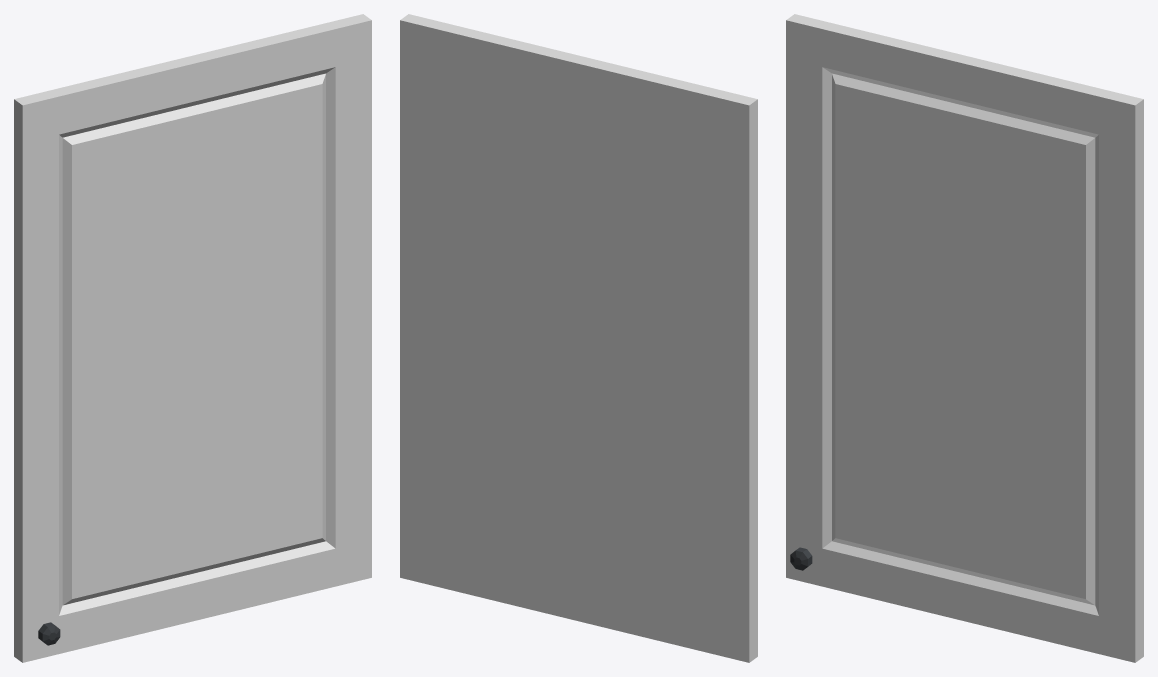
Rendered from Door3_C1_11.fbx.
The picture shows the model from 3 angles, left to right: view 1: azimuth 30°, elevation 25°; view 2: azimuth 150°, elevation 25°; view 3: azimuth 330°, elevation 25°; orthographic projection.
Visible parts, largest first — view 1: Door3_C1_11; view 2: Door3_C1_11; view 3: Door3_C1_11.
Part boxes in pixels (box(x1,y1,x2,y2)): Door3_C1_11: box(14, 14, 371, 662); Door3_C1_11: box(400, 14, 757, 662); Door3_C1_11: box(786, 14, 1143, 662).
Bounding box in the file's own units: 59 × 90 × 5.19.
